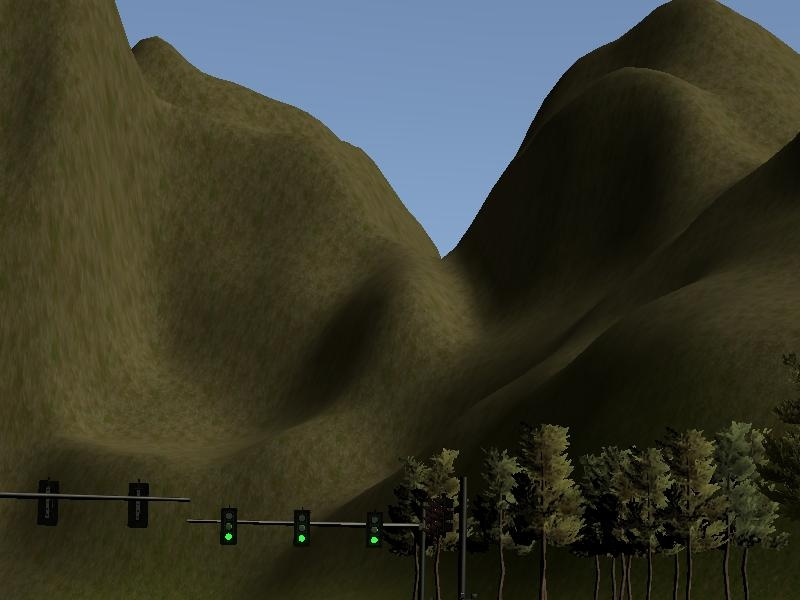green: (292, 509, 312, 547), (219, 508, 237, 547), (366, 511, 382, 547)
